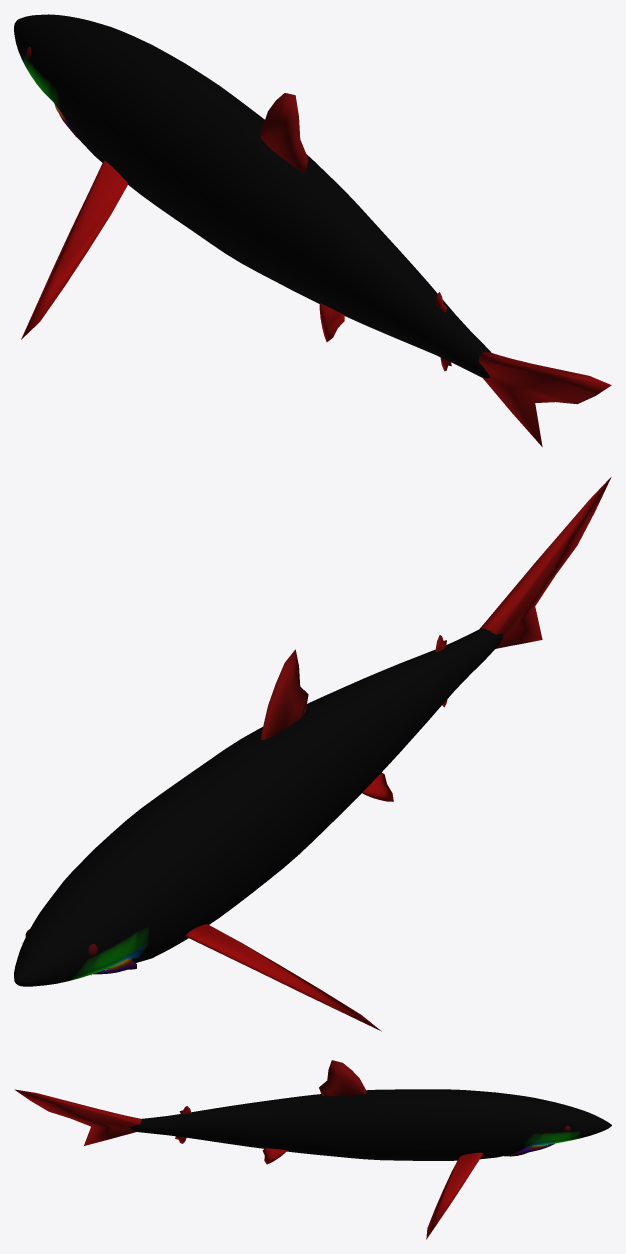
File: blue_shark_lo.glb
3 renders of one model, top to bottom at view 1: azimuth 30°, elevation 25°; view 2: azimuth 150°, elevation 25°; view 3: azimuth 270°, elevation 25°, orthographic. The views are drawn at different scales.
Parts seen in each view (by area): view 1: blue_shark_lo; view 2: blue_shark_lo; view 3: blue_shark_lo.
Part boxes in pixels (x1,y1,x2,y2): blue_shark_lo: (14, 14, 611, 446); blue_shark_lo: (14, 477, 611, 1031); blue_shark_lo: (14, 1060, 611, 1239).
Bounding box in the file's own units: 1.05 × 0.7498 × 3.
